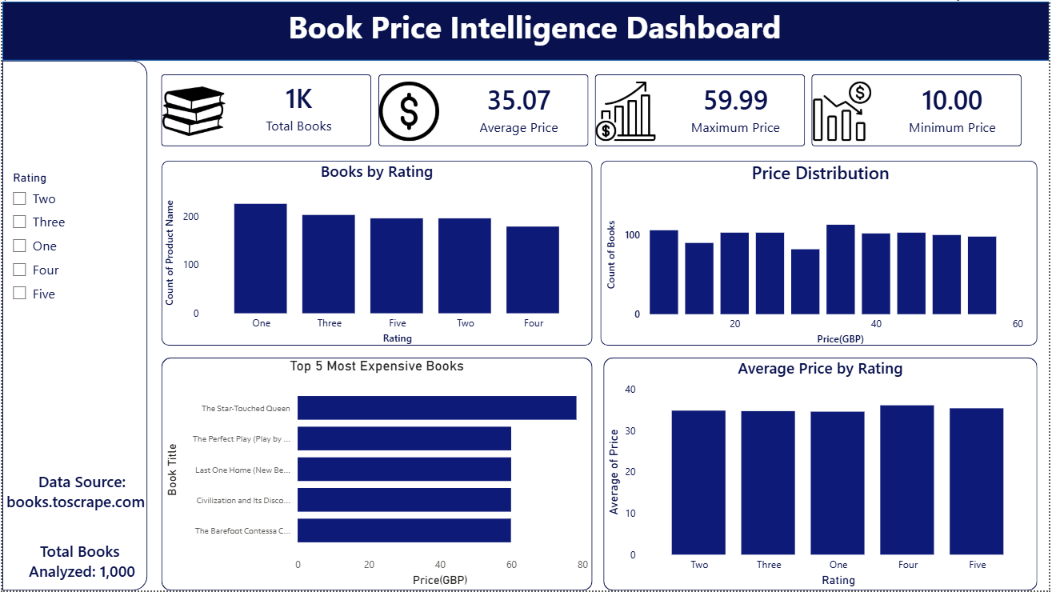

The dashboard page shown, as its layout file describes it:
{"tool":"powerbi","page":{"name":"Page 1","canvas":[1280,720],"ordinal":0},"visuals":[{"type":"shape","box":[0,0,1280.3,72.1],"z":0},{"type":"textbox","box":[326.5,0,648.9,71.5],"z":1000},{"type":"shape","box":[0,72.1,177.3,648.1],"z":2000},{"type":"cardVisual","fields":{"Data":["cleaned_books.Total Books","cleaned_books.Average Price","cleaned_books.Maximum Price","cleaned_books.Minimum Price"]},"box":[177.3,72.1,1088.3,122.3],"z":3000},{"type":"shape","box":[194.4,194.4,527,226.2],"z":4000},{"type":"shape","box":[731.3,194.4,534.4,226.2],"z":5000},{"type":"shape","box":[194.4,435.3,527,284.9],"z":6000},{"type":"shape","box":[734.9,435.3,530.7,284.9],"z":7000},{"type":"clusteredColumnChart","title":"Books by Rating","fields":{"Category":["cleaned_books.Rating"],"Y":["CountNonNull(cleaned_books.Product Name)"]},"box":[194.4,194.4,527,229.9],"z":8000},{"type":"clusteredColumnChart","title":"Price Distribution","fields":{"Category":["cleaned_books.Price (bins)"],"Y":["Count(cleaned_books.Product Name)"]},"box":[734.9,194.4,530.7,231],"z":9000},{"type":"clusteredBarChart","title":"Top 5 Most Expensive Books","fields":{"Category":["cleaned_books.Product Name"],"Y":["Sum(cleaned_books.Price)"]},"box":[194.4,435.3,527,284.9],"z":10000},{"type":"slicer","fields":{"Values":["cleaned_books.Rating"]},"box":[0,201.8,177.3,194.4],"z":11000},{"type":"clusteredColumnChart","title":"Average Price by Rating","fields":{"Category":["cleaned_books.Rating"],"Y":["Avg(cleaned_books.Price)"]},"box":[734.9,435.3,530.7,284.9],"z":12000},{"type":"textbox","box":[0,551.5,194.4,168.8],"z":13000}]}

Visuals, with their boxes in screenshot pixels (x1, y1, x2, y2), scaled from the page's 1280x720 canvas onto the 1052x595 screenshot:
shape: detection(0, 0, 1051, 60)
textbox: detection(268, 0, 802, 59)
shape: detection(0, 60, 146, 594)
cardVisual - cleaned_books.Total Books x cleaned_books.Average Price: detection(146, 60, 1040, 161)
shape: detection(160, 161, 593, 348)
shape: detection(601, 161, 1040, 348)
shape: detection(160, 360, 593, 594)
shape: detection(604, 360, 1040, 594)
"Books by Rating" clusteredColumnChart: detection(160, 161, 593, 351)
"Price Distribution" clusteredColumnChart: detection(604, 161, 1040, 352)
"Top 5 Most Expensive Books" clusteredBarChart: detection(160, 360, 593, 594)
slicer - cleaned_books.Rating: detection(0, 167, 146, 327)
"Average Price by Rating" clusteredColumnChart: detection(604, 360, 1040, 594)
textbox: detection(0, 456, 160, 594)
